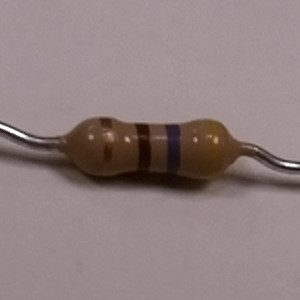brown_band: (131, 120, 155, 180)
gold_band: (97, 114, 116, 182)
violet_band: (162, 121, 183, 181)
yellow_band: (205, 116, 224, 183)
